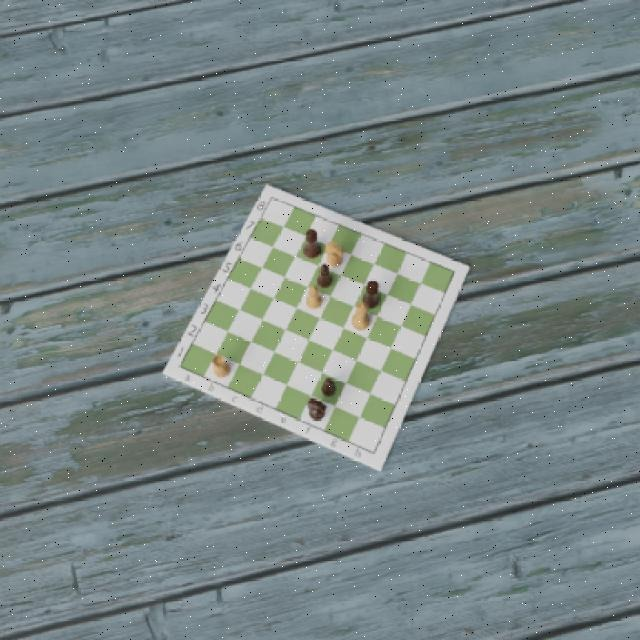black-bishop: (316, 262, 332, 289)
black-king: (302, 228, 322, 260)
black-knight: (305, 397, 327, 422)
black-pawn: (319, 378, 337, 398)
black-queen: (360, 279, 381, 308)
white-bishop: (304, 284, 323, 311)
white-king: (349, 300, 370, 331)
white-knight: (324, 240, 344, 268)
white-rook: (212, 354, 230, 378)
